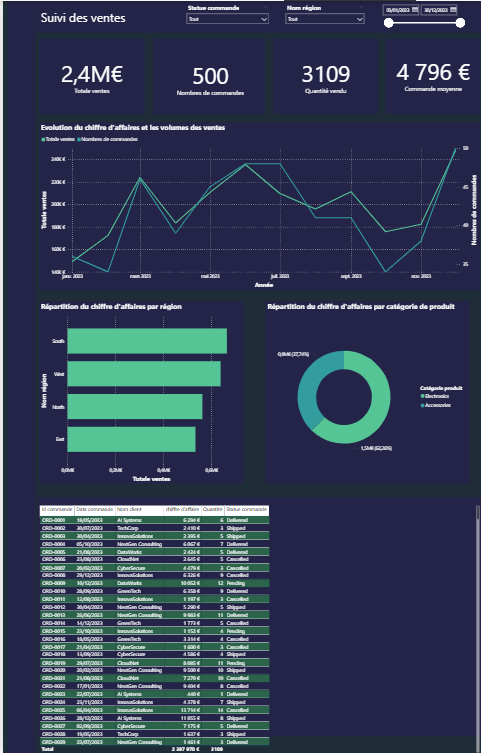

Layout of this report page (visuals, bound fields, positions):
{"tool":"powerbi","page":{"name":"Suivi ventes","canvas":[1280,2000],"ordinal":0},"visuals":[{"type":"shape","box":[10.9,0,75.1,2000.6],"z":0},{"type":"shape","box":[85.6,0,1193.9,84],"z":1000},{"type":"shape","box":[97,98.5,280,200.2],"z":2000},{"type":"shape","box":[399.5,100.4,297.2,200.8],"z":3000},{"type":"shape","box":[716.4,98.5,278.4,200.2],"z":4000},{"type":"shape","box":[1015.1,98.5,253.4,200.2],"z":5000},{"type":"shape","box":[97,322.2,1171.6,444.2],"z":6000},{"type":"shape","box":[97,796.2,542.8,484.9],"z":7000},{"type":"shape","box":[697.6,796.2,542.8,484.9],"z":8000},{"type":"shape","box":[92.3,1318.6,1182.5,633.5],"z":9000},{"type":"textbox","box":[97,15.6,316,53.2],"z":10000},{"type":"card","fields":{"Values":["ventes.Totale ventes"]},"box":[97,98.5,280,200.2],"z":11000},{"type":"card","fields":{"Values":["ventes.Nombres de commandes"]},"box":[409.1,101.5,279,199.8],"z":12000},{"type":"card","fields":{"Values":["ventes.Quantité vendu"]},"box":[716.4,100.1,280,200.2],"z":13000},{"type":"card","fields":{"Values":["ventes.Commande moyenne"]},"box":[1015.1,98.5,253.4,189.3],"z":14000},{"type":"lineChart","title":"Evolution du chiffre d''affaires et les volumes des ventes","fields":{"Y":["Mesures.Totale ventes"],"Category":["ventes.Data commande.Variation.Hiérarchie de dates.Année","ventes.Data commande.Variation.Hiérarchie de dates.Trimestre","ventes.Data commande.Variation.Hiérarchie de dates.Mois","ventes.Data commande.Variation.Hiérarchie de dates.Jour"],"Y2":["Mesures.Nombres de commandes"]},"box":[97,322.2,1171.6,444.2],"z":15000},{"type":"barChart","title":"Répartition du chiffre d''affaires par région","fields":{"Y":["Mesures.Totale ventes"],"Category":["Région.Nom région"]},"box":[97,796.2,542.8,484.9],"z":16000},{"type":"donutChart","title":"Répartition du chiffre d''affaires par catégorie de produit","fields":{"Y":["Mesures.Totale ventes"],"Category":["Produit.Catégorie produit"]},"box":[697.6,796.2,542.8,484.9],"z":17000},{"type":"tableEx","fields":{"Values":["ventes.Id commande","ventes.Data commande","Clients.Nom client","ventes.Prix totale","Mesures.Quantité vendu","ventes.Statue commande"]},"box":[90.7,1332.7,1177.8,666.3],"z":18000},{"type":"slicer","fields":{"Values":["ventes.Statue commande"]},"box":[478.8,0,237.8,68.2],"z":19000},{"type":"slicer","fields":{"Values":["Région.Nom région"]},"box":[740.4,0,228.3,68.2],"z":20000},{"type":"slicer","fields":{"Values":["ventes.Data commande"]},"box":[995.7,0,239.4,84],"z":21000}]}

Visuals, with their boxes in screenshot pixels (x1, y1, x2, y2), scaled from the page's 1280x2000 canvas onto the 481x753 screenshot:
shape: rect(4, 0, 32, 752)
shape: rect(32, 0, 480, 32)
shape: rect(36, 37, 142, 112)
shape: rect(150, 38, 262, 113)
shape: rect(269, 37, 374, 112)
shape: rect(381, 37, 477, 112)
shape: rect(36, 121, 477, 289)
shape: rect(36, 300, 240, 482)
shape: rect(262, 300, 466, 482)
shape: rect(35, 496, 479, 735)
textbox: rect(36, 6, 155, 26)
card - ventes.Totale ventes: rect(36, 37, 142, 112)
card - ventes.Nombres de commandes: rect(154, 38, 259, 113)
card - ventes.Quantité vendu: rect(269, 38, 374, 113)
card - ventes.Commande moyenne: rect(381, 37, 477, 108)
"Evolution du chiffre d''affaires et les volumes des ventes" lineChart: rect(36, 121, 477, 289)
"Répartition du chiffre d''affaires par région" barChart: rect(36, 300, 240, 482)
"Répartition du chiffre d''affaires par catégorie de produit" donutChart: rect(262, 300, 466, 482)
tableEx - ventes.Id commande x ventes.Data commande: rect(34, 502, 477, 752)
slicer - ventes.Statue commande: rect(180, 0, 269, 26)
slicer - Région.Nom région: rect(278, 0, 364, 26)
slicer - ventes.Data commande: rect(374, 0, 464, 32)
